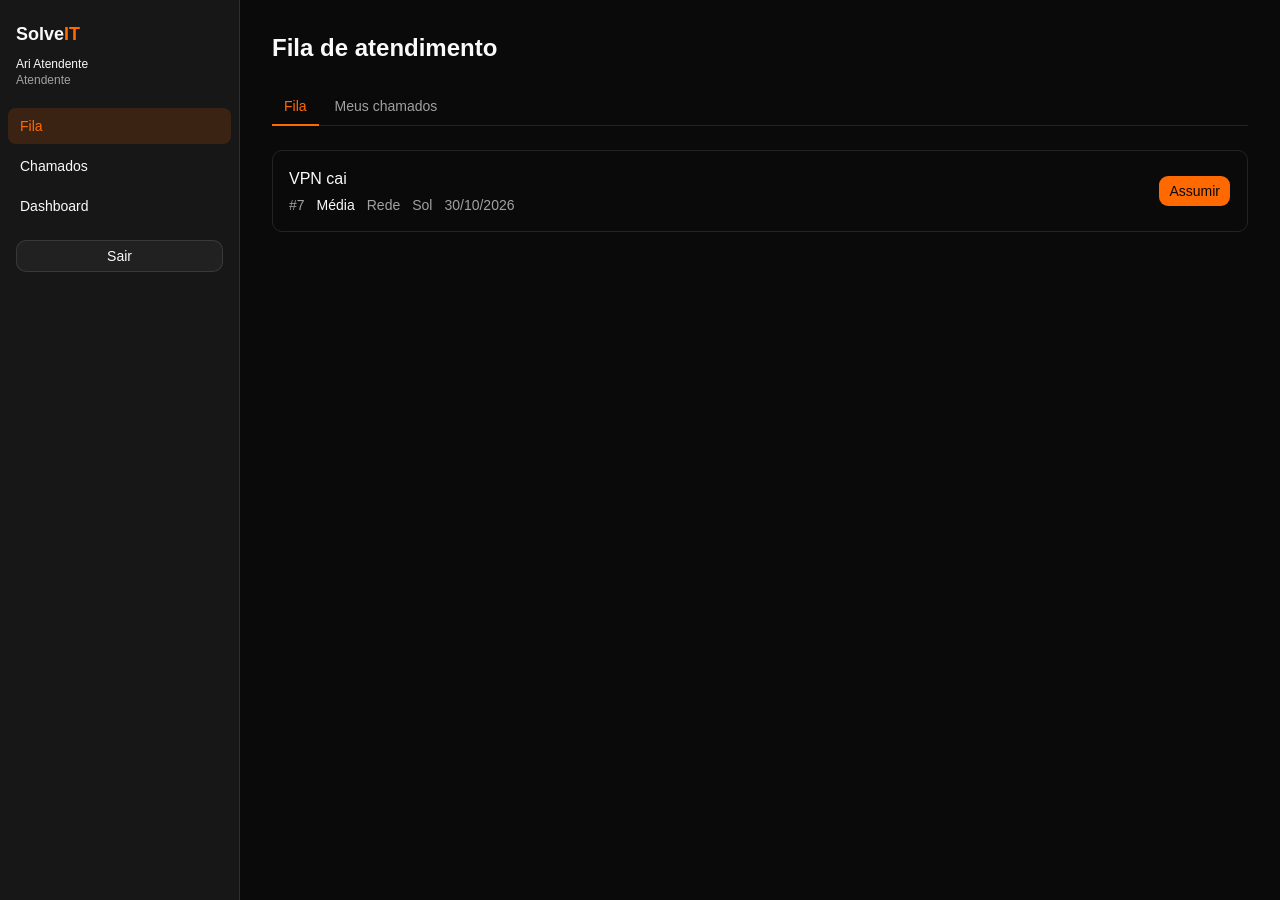
Test: fila do atendente › avisa quando outro atendente assumiu primeiro e recarrega a fila
Click the button with aria-label "Assumir VPN cai" at (1195,191), box [1158,175,1231,207]
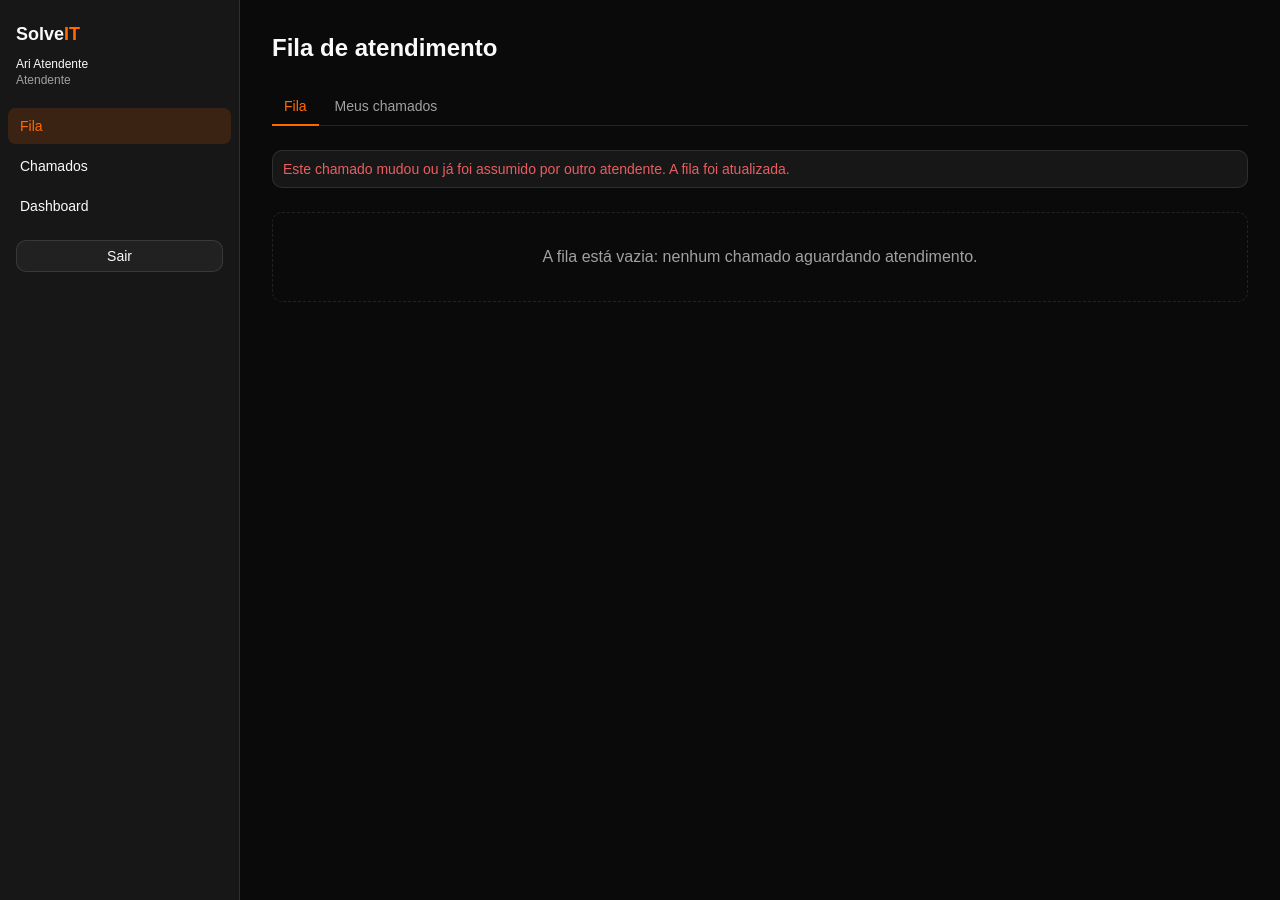
Expected: the text "Este chamado mudou ou já foi assumido por outro atendente. A fila foi atualizada." is shown, [283,161,790,177]
Expected: the text "A fila está vazia: nenhum chamado aguardando atendimento." is shown, [272,212,1248,302]
